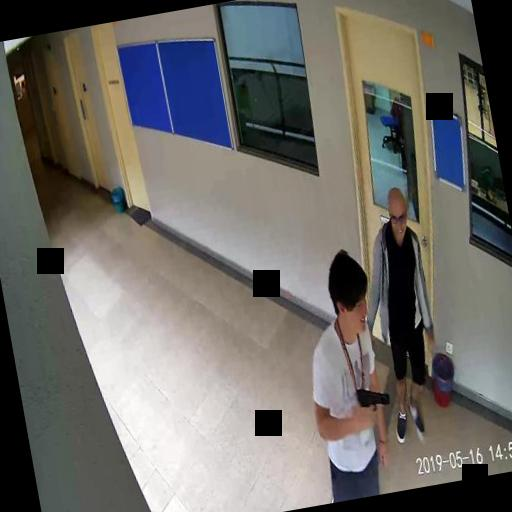Handgun: (353, 380, 392, 428)
